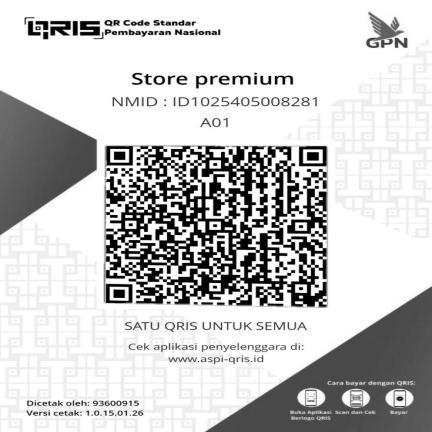Cara Pakai QRIS: (276, 377, 421, 426)
Cek Aplikasi Penyelenggara: (118, 337, 309, 368)
Dicetak Oleh: (21, 397, 144, 407)
Logo GPN: (356, 9, 418, 54)
Logo dan deskripsi QRIS: (17, 15, 227, 43)
Nama Merchant: (123, 69, 305, 91)
National Merchant ID: (106, 94, 323, 111)
QR Code: (97, 139, 338, 313)
Slogan: (120, 317, 312, 333)
Terminal ID: (192, 115, 241, 131)
Versi Cetak: (21, 408, 148, 418)
